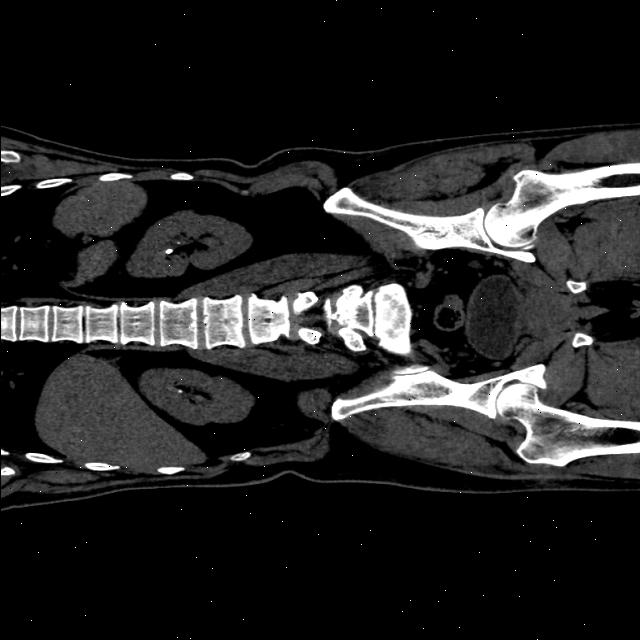kidneystone: (164, 248, 174, 254)
